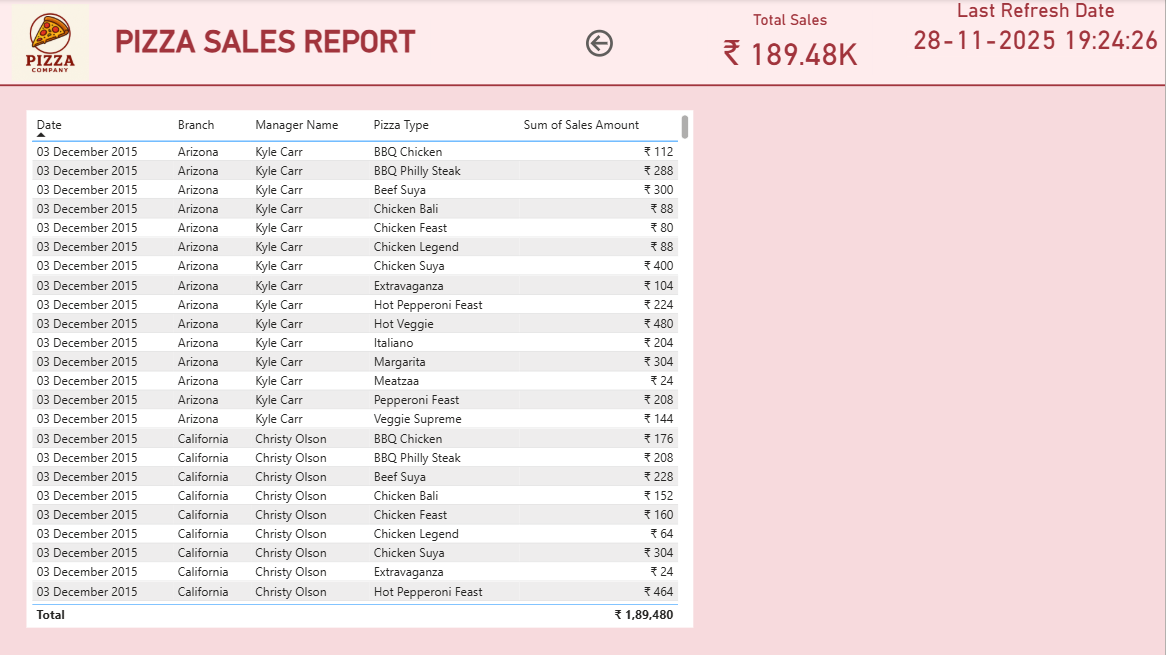

The page's visual inventory and layout, read from the dashboard file:
{"tool":"powerbi","page":{"name":"Detailed Page","canvas":[1280,720],"ordinal":1},"visuals":[{"type":"shape","box":[0,0,1280.3,94.7],"z":0},{"type":"card","title":"Last Refresh Date","fields":{"Values":["LastRefreshDate.LastRefreshDate"]},"box":[996.2,0,284,63.1],"z":1000},{"type":"textbox","box":[111.1,22,362.3,50.8],"z":2000},{"type":"shape","box":[0,85.1,1280.3,19.2],"z":3000},{"type":"card","title":"Total Sales","fields":{"Values":["Sales.Sales Amount"]},"box":[778,12.3,181.1,71.4],"z":8000},{"type":"image","box":[12.5,4.8,87.5,84.6],"z":9000},{"type":"tableEx","fields":{"Values":["Sales.Date","Branch Data.Branch","Branch Data.Manager Name","Sales.Pizza Type","Sales.Sales Amount"]},"box":[29.6,122.5,732.4,567.6],"z":9001},{"type":"actionButton","box":[639.4,28.2,100,39.4],"z":9002}]}

Visuals, with their boxes in screenshot pixels (x1, y1, x2, y2), scaled from the page's 1280x720 canvas onto the 1166x655 screenshot:
shape: (x1=0, y1=0, x2=1165, y2=86)
"Last Refresh Date" card: (x1=907, y1=0, x2=1165, y2=57)
textbox: (x1=101, y1=20, x2=431, y2=66)
shape: (x1=0, y1=77, x2=1165, y2=95)
"Total Sales" card: (x1=709, y1=11, x2=874, y2=76)
image: (x1=11, y1=4, x2=91, y2=81)
tableEx - Sales.Date x Branch Data.Branch: (x1=27, y1=111, x2=694, y2=628)
actionButton: (x1=582, y1=26, x2=674, y2=61)
